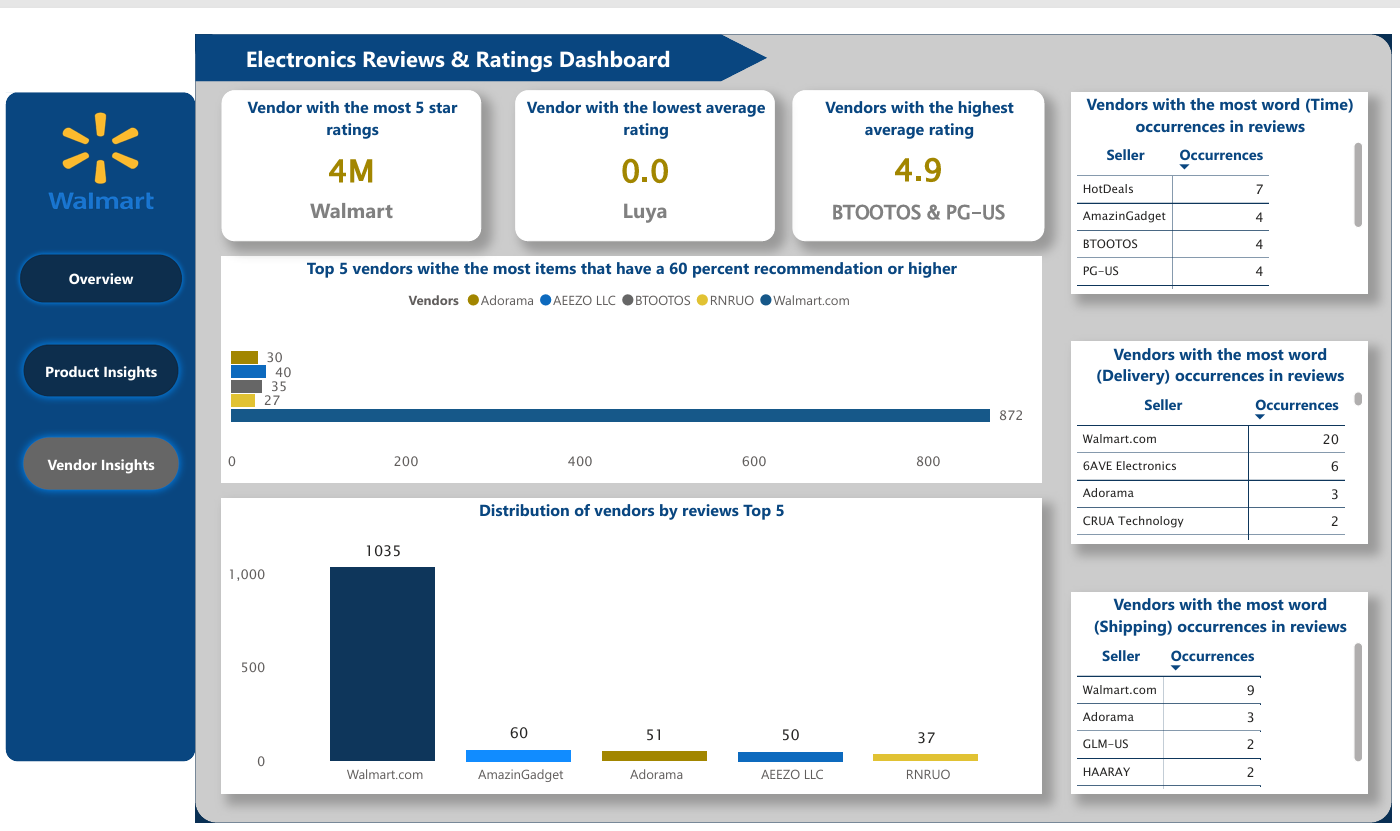

Layout of this report page (visuals, bound fields, positions):
{"tool":"powerbi","page":{"name":"Vendor Insights","canvas":[1280,720],"ordinal":2},"visuals":[{"type":"shape","box":[15.2,52.8,172.8,611.6],"z":0},{"type":"shape","box":[188,0,1092,720],"z":1000},{"type":"shape","box":[188.1,0,522.1,43],"z":2000},{"type":"pageNavigator","box":[23.3,196.1,157.6,53.7],"z":3000},{"type":"pageNavigator","box":[23.3,274.9,157.6,63.6],"z":4000},{"type":"pageNavigator","box":[23.3,360,157.6,63.6],"z":5000},{"type":"image","box":[8.1,66.3,188.1,108.4],"z":6000},{"type":"pivotTable","title":"Vendors with the most word (Time) occurrences  in reviews","fields":{"Values":["Orders.Time_Occurrences"],"Rows":["Seller.sellerDisplayName"]},"box":[988,53,270.8,184.1],"z":7000},{"type":"pivotTable","title":"Vendors with the most word (Shipping) occurrences  in reviews","fields":{"Rows":["Seller.sellerDisplayName"],"Values":["Orders.Shipping_Occurrences"]},"box":[988,509.9,270.8,184.1],"z":8000},{"type":"pivotTable","title":"Vendors with the most word (Delivery) occurrences  in reviews","fields":{"Rows":["Seller.sellerDisplayName"],"Values":["Orders.Delivery_Occurrences"]},"box":[988,281.4,270.8,184.1],"z":9000},{"type":"clusteredColumnChart","title":"Distribution of vendors by reviews Top 5","fields":{"Category":["seller2.sellerDisplayName"],"Y":["CountNonNull(seller2.ReviewID)"]},"box":[212,424.1,748.9,269.9],"z":10000},{"type":"card","title":"Vendors with the highest average rating","fields":{"Values":["Sum(Seller.sellerAverageRating)"]},"box":[733.5,51.1,229.4,137.8],"z":11000},{"type":"card","title":"Vendor with the lowest average rating","fields":{"Values":["Sum(Seller.sellerAverageRating)"]},"box":[480,51.1,237.1,137.8],"z":12000},{"type":"clusteredBarChart","title":"Top 5 vendors withe the most items that have a 60 percent recommendation or higher","fields":{"Y":["CountNonNull(seller2.RecommendedReviewPercent)"],"Series":["seller2.sellerDisplayName"]},"box":[212,203.4,748.9,206.3],"z":13000},{"type":"card","title":"Vendor with the most 5 star ratings","fields":{"Values":["Sum(seller2.FiveStarRatings)"]},"box":[212,51.1,237.1,137.8],"z":14000}]}

Visuals, with their boxes on the page's 1280x720 design canvas (x1, y1, x2, y2). These are canvas units, not pixel positions in the 1400x831 screenshot, which may show the page scaled, cropped or inside an application window:
shape: crop(15, 53, 188, 664)
shape: crop(188, 0, 1280, 720)
shape: crop(188, 0, 710, 43)
pageNavigator: crop(23, 196, 181, 250)
pageNavigator: crop(23, 275, 181, 338)
pageNavigator: crop(23, 360, 181, 424)
image: crop(8, 66, 196, 175)
"Vendors with the most word (Time) occurrences  in reviews" pivotTable: crop(988, 53, 1259, 237)
"Vendors with the most word (Shipping) occurrences  in reviews" pivotTable: crop(988, 510, 1259, 694)
"Vendors with the most word (Delivery) occurrences  in reviews" pivotTable: crop(988, 281, 1259, 466)
"Distribution of vendors by reviews Top 5" clusteredColumnChart: crop(212, 424, 961, 694)
"Vendors with the highest average rating" card: crop(734, 51, 963, 189)
"Vendor with the lowest average rating" card: crop(480, 51, 717, 189)
"Top 5 vendors withe the most items that have a 60 percent recommendation or higher" clusteredBarChart: crop(212, 203, 961, 410)
"Vendor with the most 5 star ratings" card: crop(212, 51, 449, 189)
